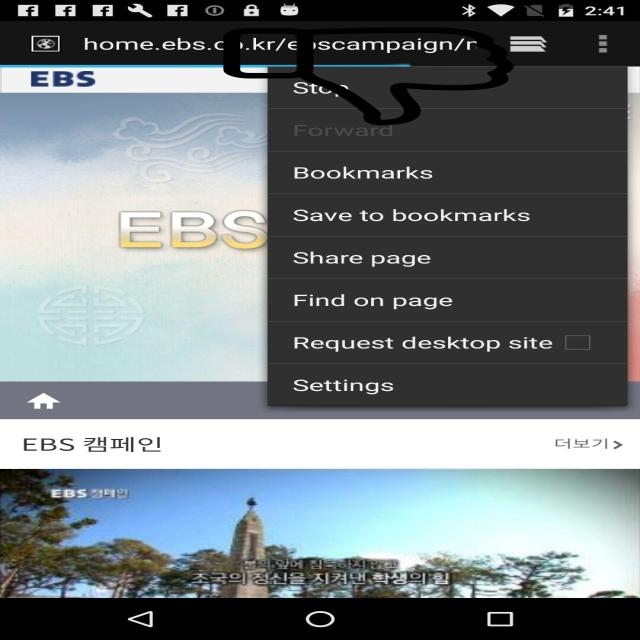obstruction: (219, 28, 518, 126)
